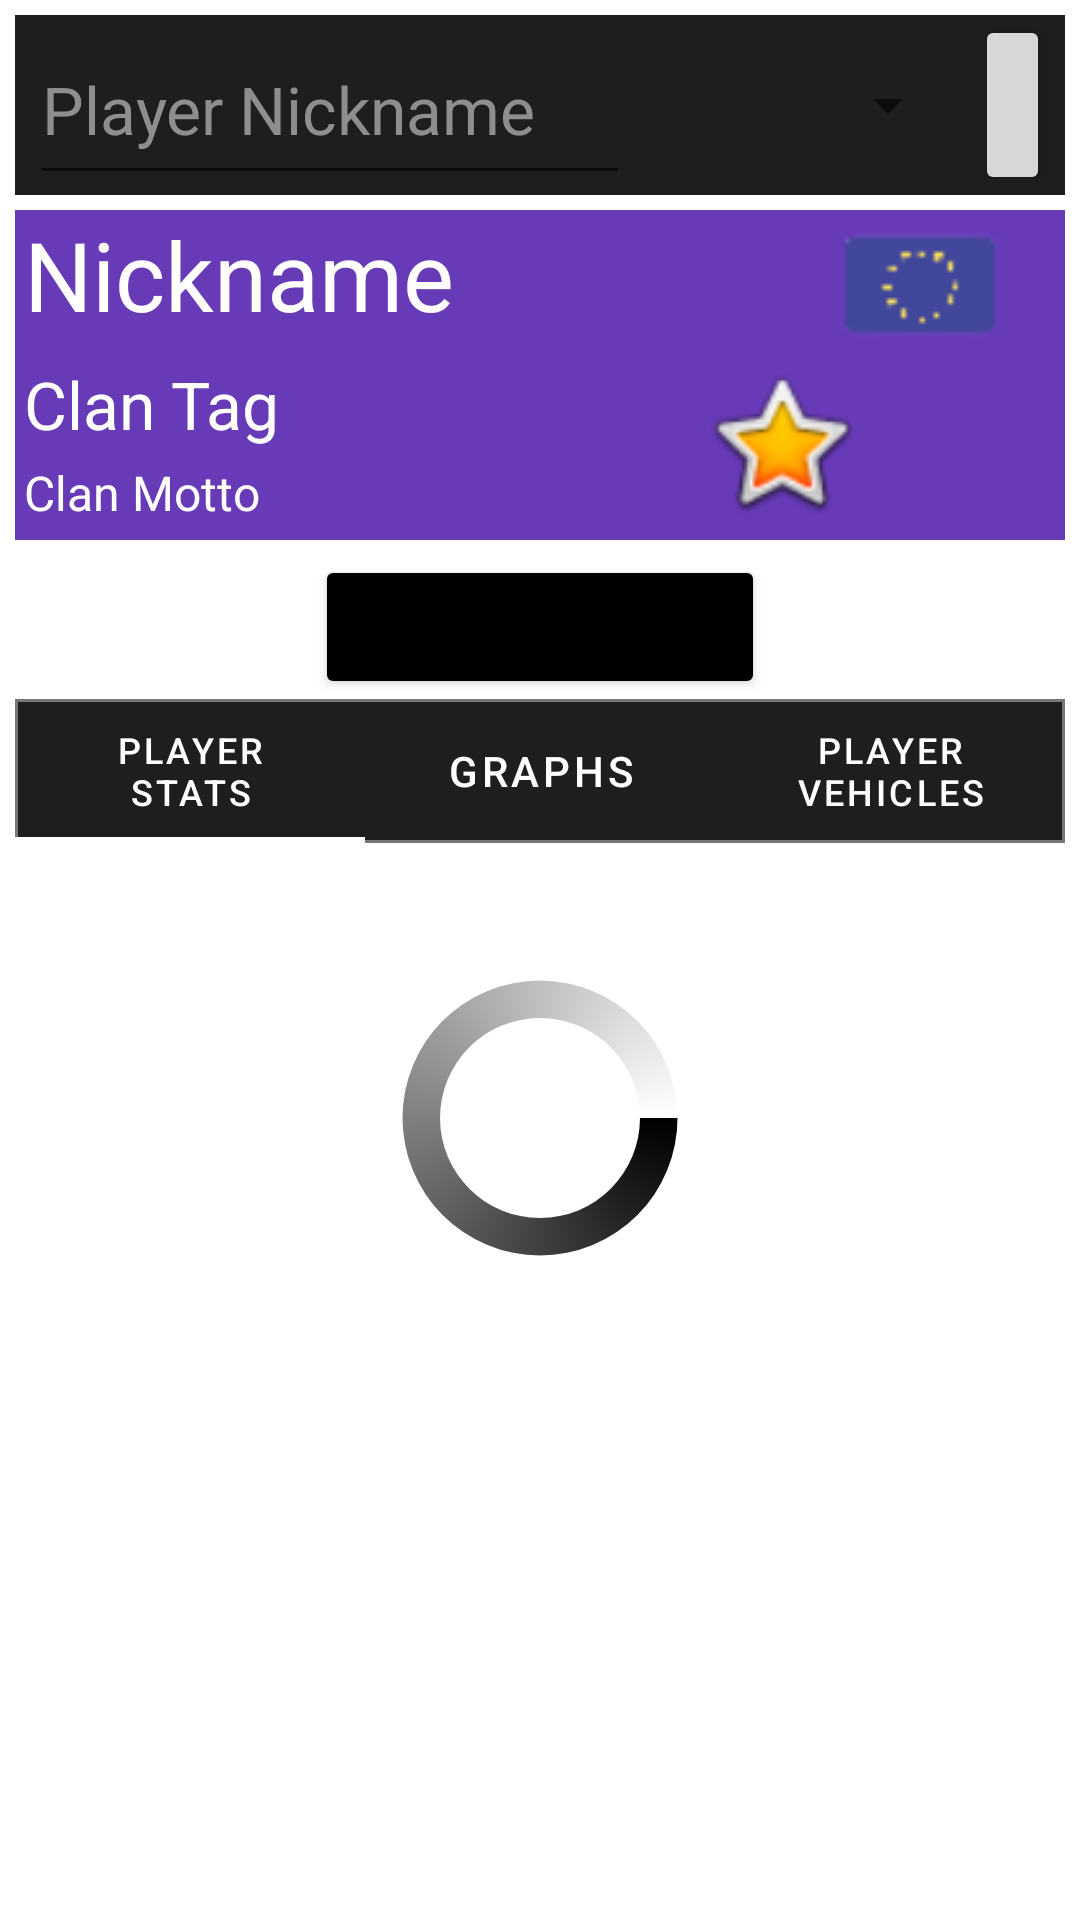

Screen size 1080x1920. Icon name, then its box in pixels as (x1=x1, y1=y1, x2=x2, y2=y2):
star on: (x1=714, y1=378, x2=851, y2=510)
